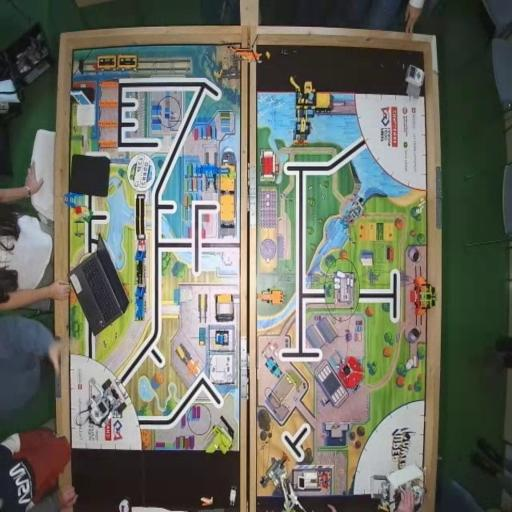lego_robot: (78, 375, 128, 431), (369, 462, 425, 512)
